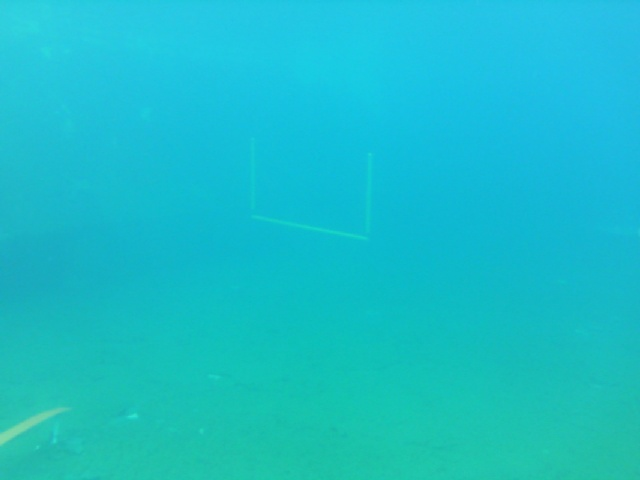channel: (241, 135, 380, 246)
